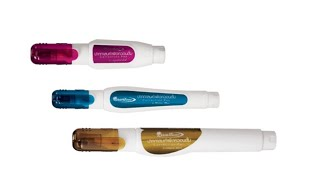Correction_fluid: (71, 124, 279, 158), (50, 82, 225, 116), (27, 39, 171, 74)
